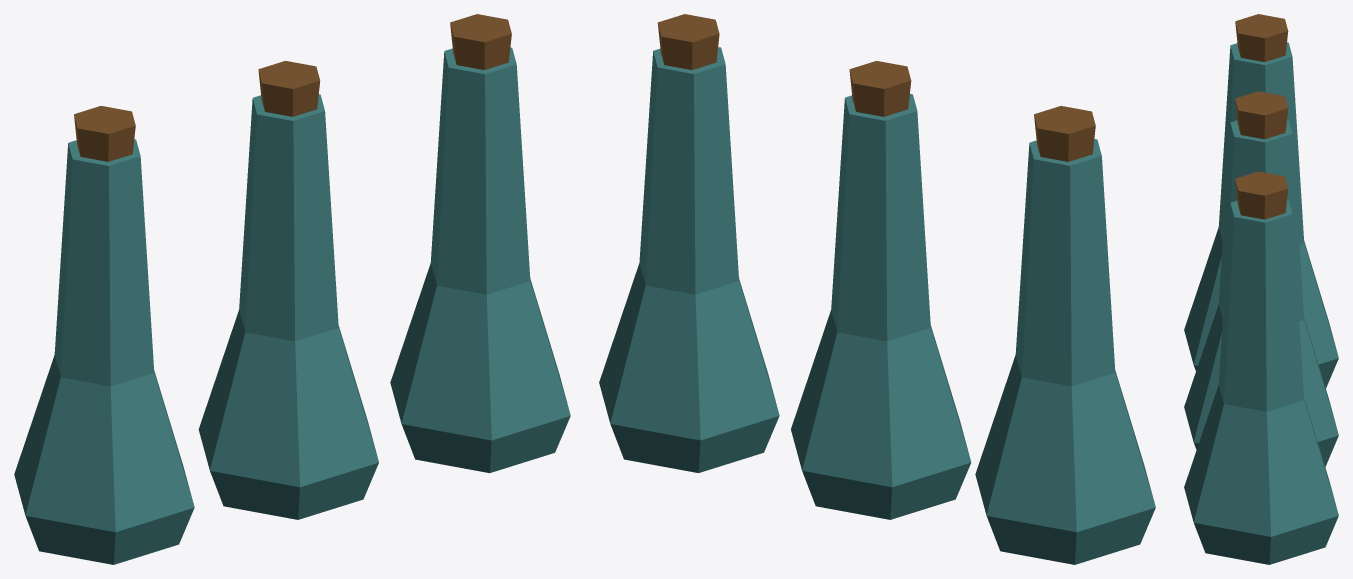
Rendered from concoctions.fbx.
3 renders of one model, left to right at view 1: azimuth 30°, elevation 25°; view 2: azimuth 150°, elevation 25°; view 3: azimuth 270°, elevation 25°, orthographic. The views are drawn at different scales.
Visible parts, largest first — view 1: Object058.002, Object058.003, Object058.004; view 2: Object058.003, Object058.002, Object058.004; view 3: Object058.002, Object058.003, Object058.004.
Boxes of the visible parts, bbox=[...] form: Object058.002: bbox=[390, 14, 570, 473]; Object058.003: bbox=[198, 60, 378, 519]; Object058.004: bbox=[14, 106, 194, 564]; Object058.003: bbox=[791, 61, 971, 519]; Object058.002: bbox=[599, 14, 779, 472]; Object058.004: bbox=[975, 106, 1155, 564]; Object058.002: bbox=[1184, 171, 1338, 564]; Object058.003: bbox=[1184, 91, 1338, 466]; Object058.004: bbox=[1184, 14, 1338, 388].
Size of the model in its own units: 72.53 by 52.19 by 20.79.
